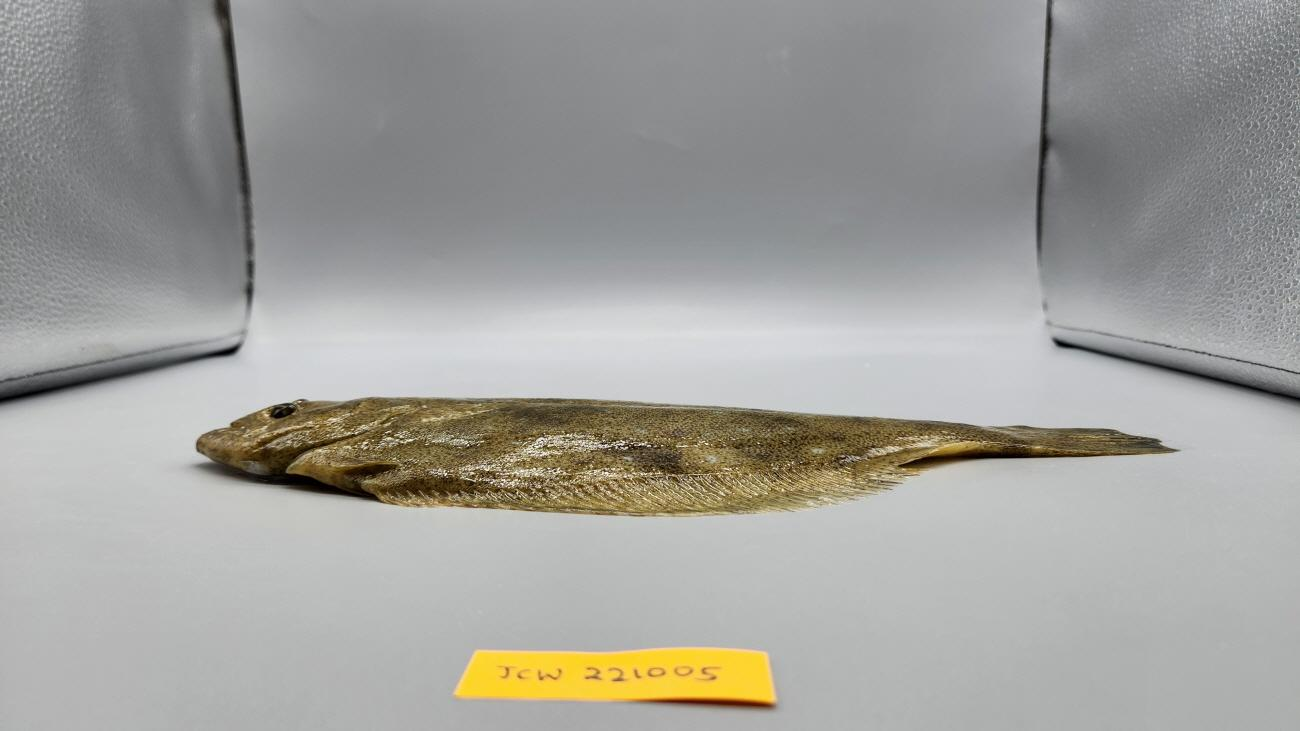POOUN: (196, 396, 1182, 516)
